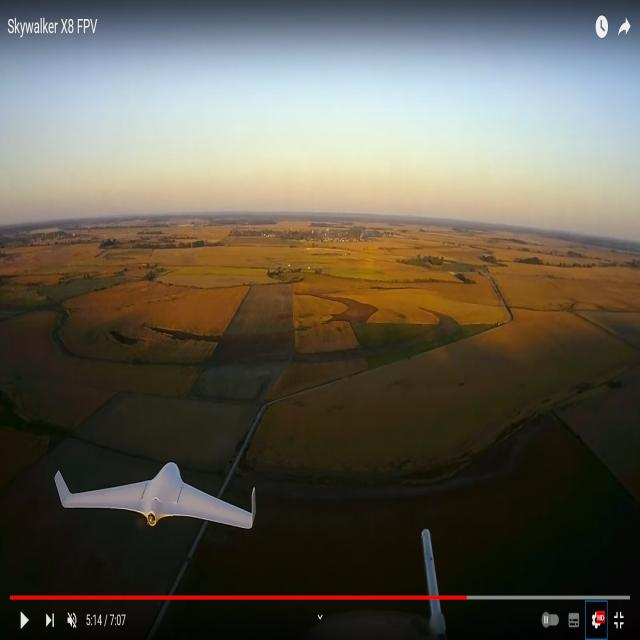iha: (60, 492, 256, 508)
